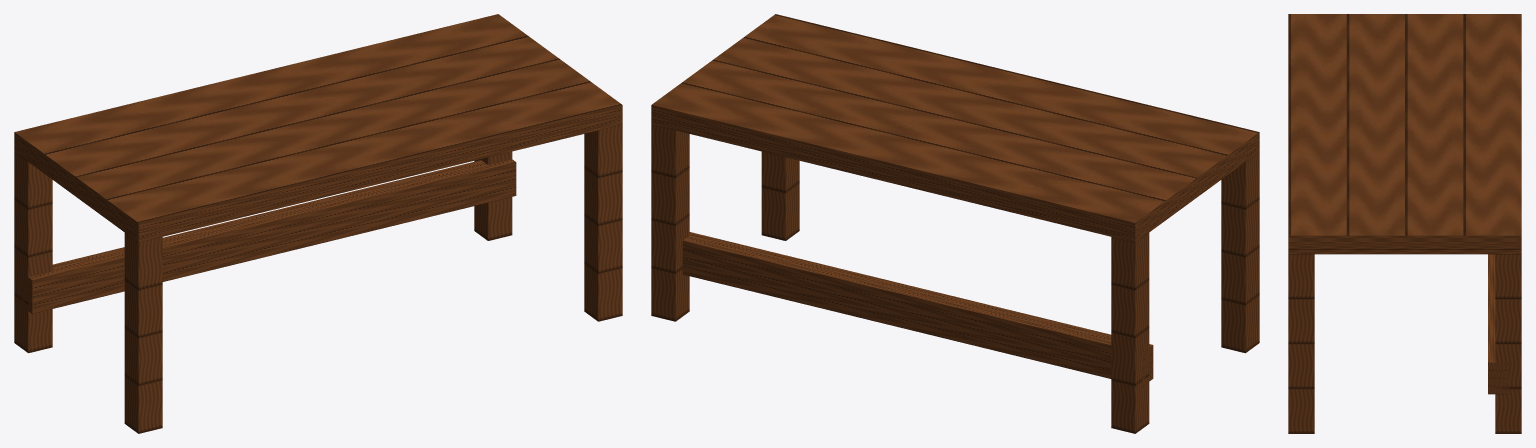
The model's file is roadside-survival-stops-roadside-table-frame-bdf258c5__23556.glb.
3 renders of one model, left to right at view 1: azimuth 30°, elevation 25°; view 2: azimuth 150°, elevation 25°; view 3: azimuth 270°, elevation 25°, orthographic. The views are drawn at different scales.
Parts seen in each view (by area): view 1: roadside-table-frame; view 2: roadside-table-frame; view 3: roadside-table-frame.
Part boxes in pixels (bbox=[...]): roadside-table-frame: bbox=[14, 14, 622, 433]; roadside-table-frame: bbox=[651, 14, 1259, 433]; roadside-table-frame: bbox=[1288, 14, 1521, 433].
Bounding box in the file's own units: 1.8 × 0.75 × 0.7999.
Materials: 1 (1 with a texture image).
